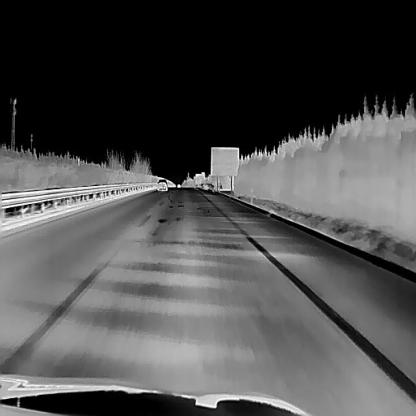car: (156, 178, 167, 190)
